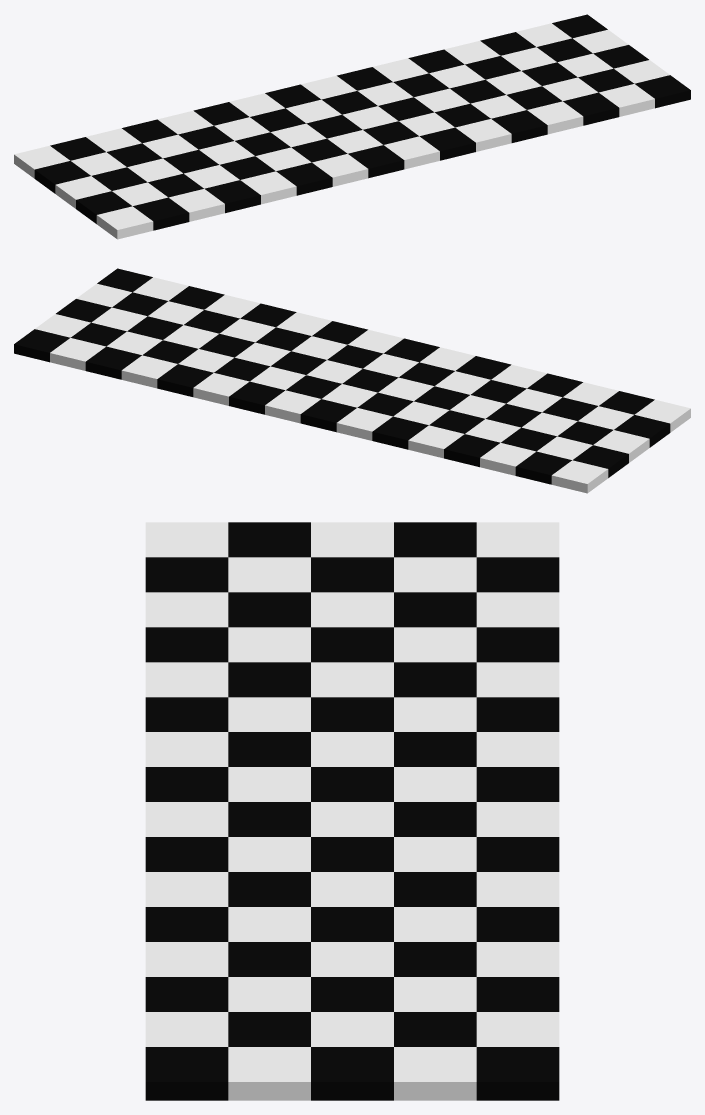
Rendered from finish.dae.
3 renders of one model, top to bottom at view 1: azimuth 30°, elevation 25°; view 2: azimuth 150°, elevation 25°; view 3: azimuth 270°, elevation 25°, orthographic. The views are drawn at different scales.
Visible parts, largest first — view 1: cube (×80); view 2: cube (×80); view 3: cube (×80).
Part boxes in pixels (x1=…): cube (×80): x1=14, y1=14, x2=690, y2=239; cube (×80): x1=14, y1=268, x2=690, y2=493; cube (×80): x1=145, y1=522, x2=559, y2=1100.
Bounding box in the file's own units: 1 × 0.0156 × 0.3125.
2 materials, 2 textured.
